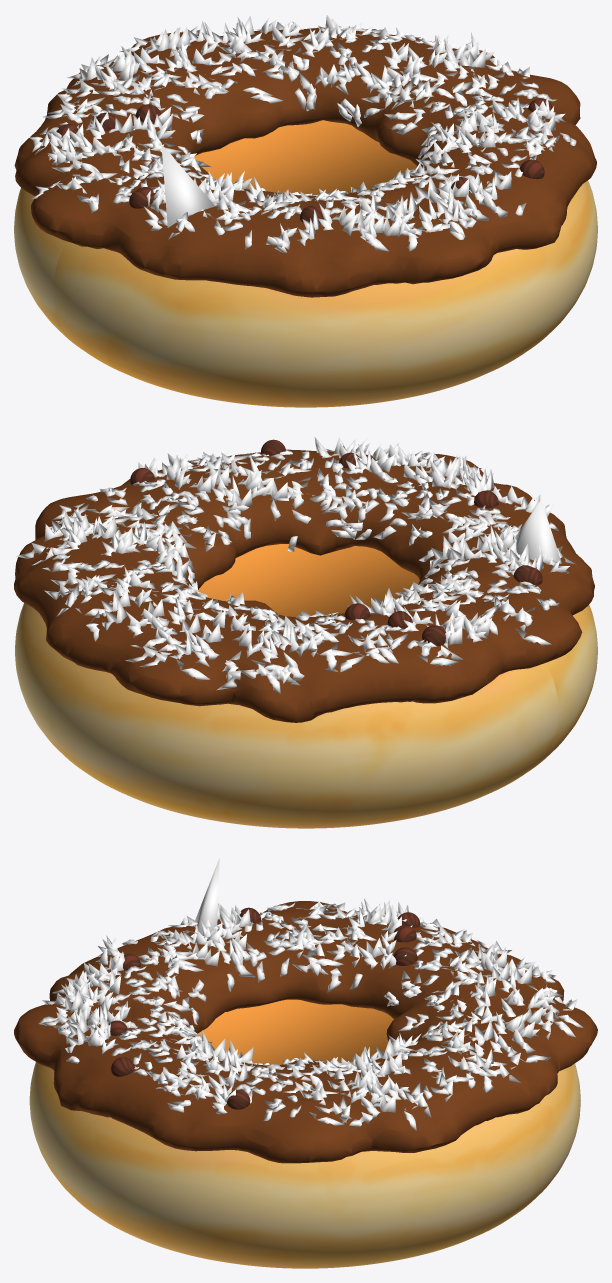
File: donut_36.glb
The picture shows the model from 3 angles, top to bottom: view 1: azimuth 30°, elevation 25°; view 2: azimuth 150°, elevation 25°; view 3: azimuth 270°, elevation 25°; orthographic projection. The views are drawn at different scales.
Visible parts, largest first — view 1: Torus, Liquid Domain, Cube.001; view 2: Torus, Liquid Domain, Cube.001; view 3: Torus, Liquid Domain, Cube.001.
Part boxes in pixels (x1,y1,x2,y2): Torus: (14, 120, 597, 407); Liquid Domain: (14, 27, 596, 297); Cube.001: (161, 144, 214, 227); Torus: (15, 544, 597, 828); Liquid Domain: (14, 449, 594, 722); Cube.001: (513, 499, 561, 563); Torus: (29, 999, 580, 1268); Liquid Domain: (14, 901, 597, 1163); Cube.001: (195, 858, 219, 934).
Bounding box in the file's own units: 3.11 × 1.4 × 3.12.
Materials: 4 (2 with a texture image).
